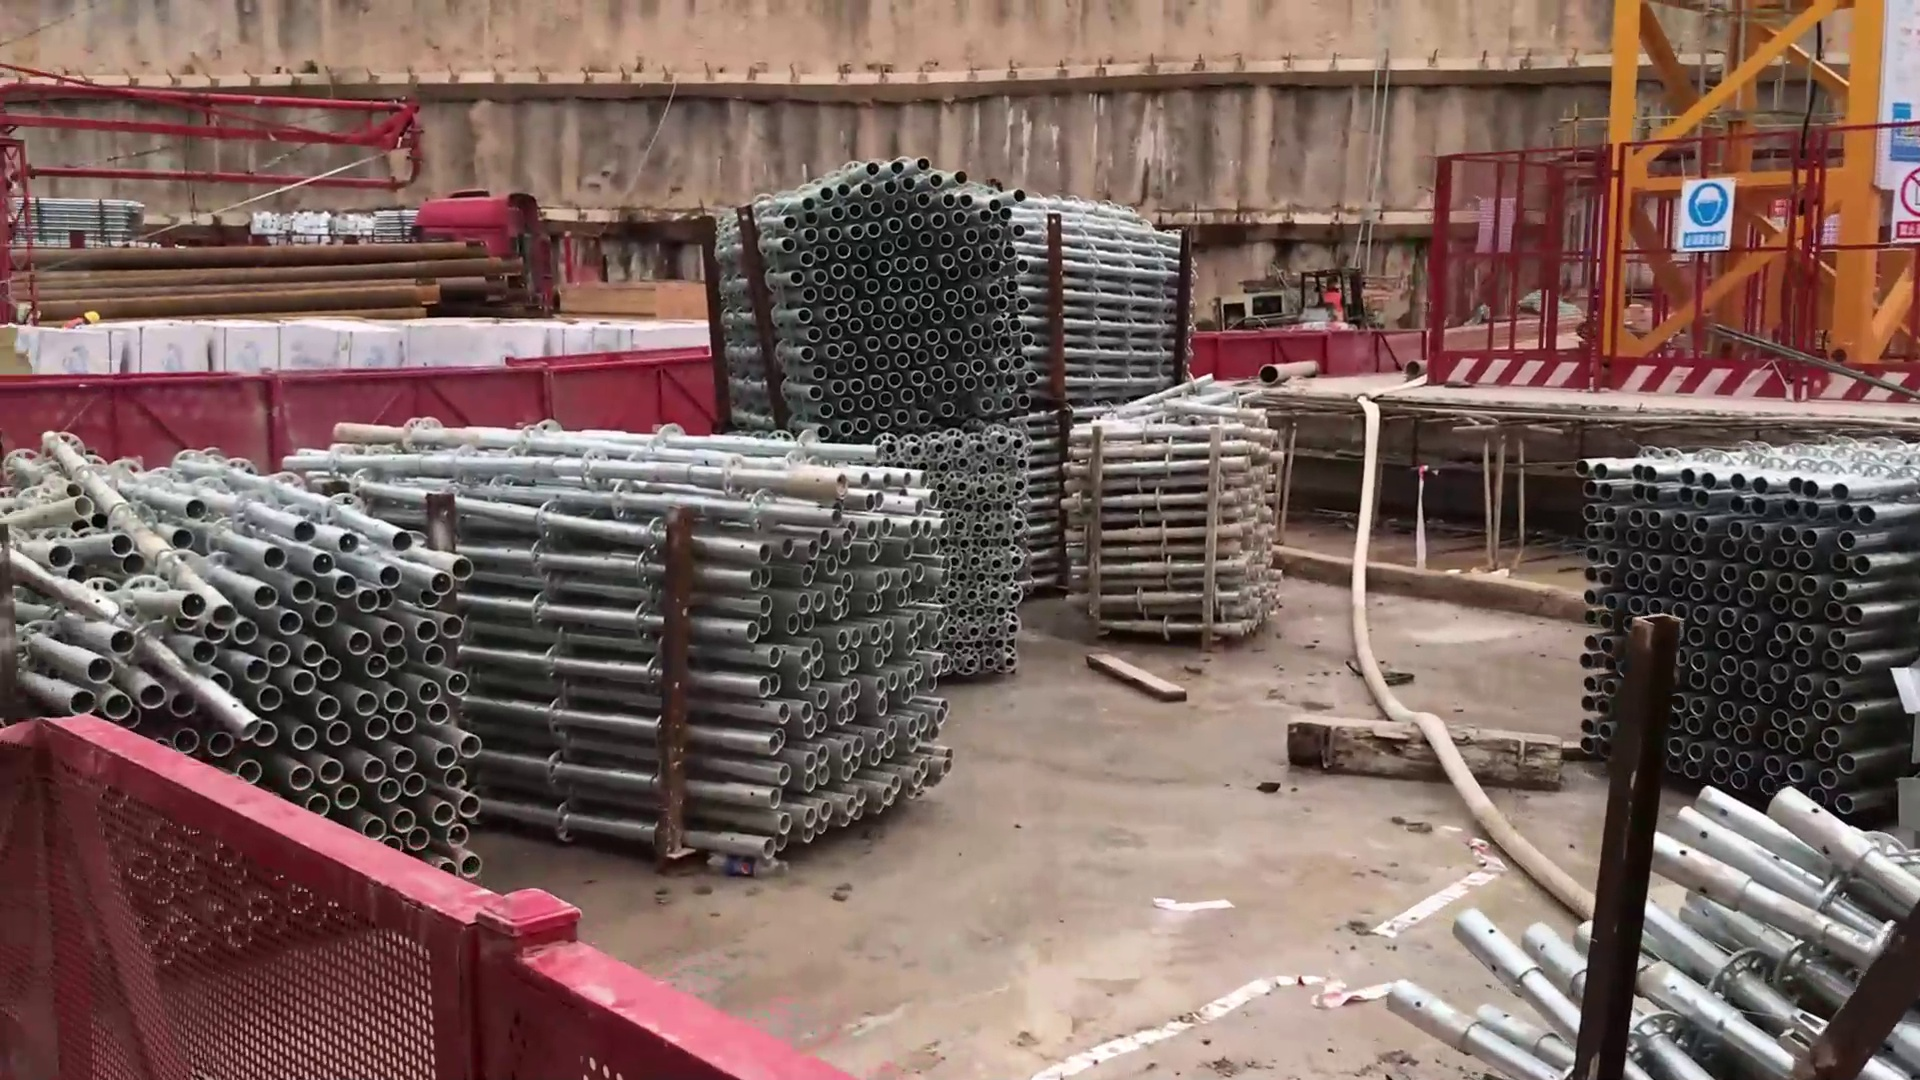fence: (49, 723, 626, 1080), (1429, 131, 1654, 384)
scaffold: (425, 394, 956, 872), (1399, 786, 1920, 1073), (1560, 419, 1920, 833), (1, 456, 485, 738), (732, 161, 1218, 433), (1069, 405, 1280, 649)
slogan: (1673, 181, 1735, 262), (1878, 157, 1920, 257)
wood: (551, 272, 707, 339)
